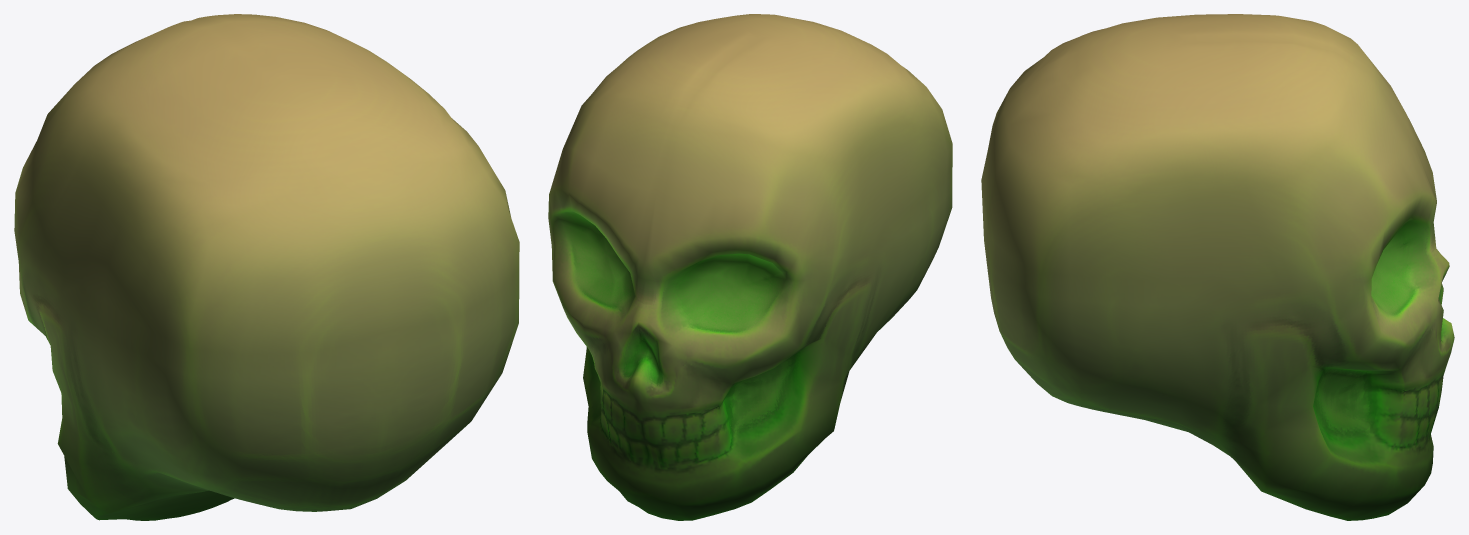
Rendered from Skull.glb.
3 views of the same model, side by side, from view 1: azimuth 30°, elevation 25°; view 2: azimuth 150°, elevation 25°; view 3: azimuth 270°, elevation 25° (orthographic). The views are drawn at different scales.
Visible parts, largest first — view 1: Plane; view 2: Plane; view 3: Plane.
Boxes of the visible parts, x1=… form: Plane: x1=14, y1=14, x2=519, y2=520; Plane: x1=548, y1=14, x2=952, y2=520; Plane: x1=981, y1=14, x2=1454, y2=520.
Size of the model in its own units: 1.15 by 1.59 by 1.46.
1 material, 1 textured.
